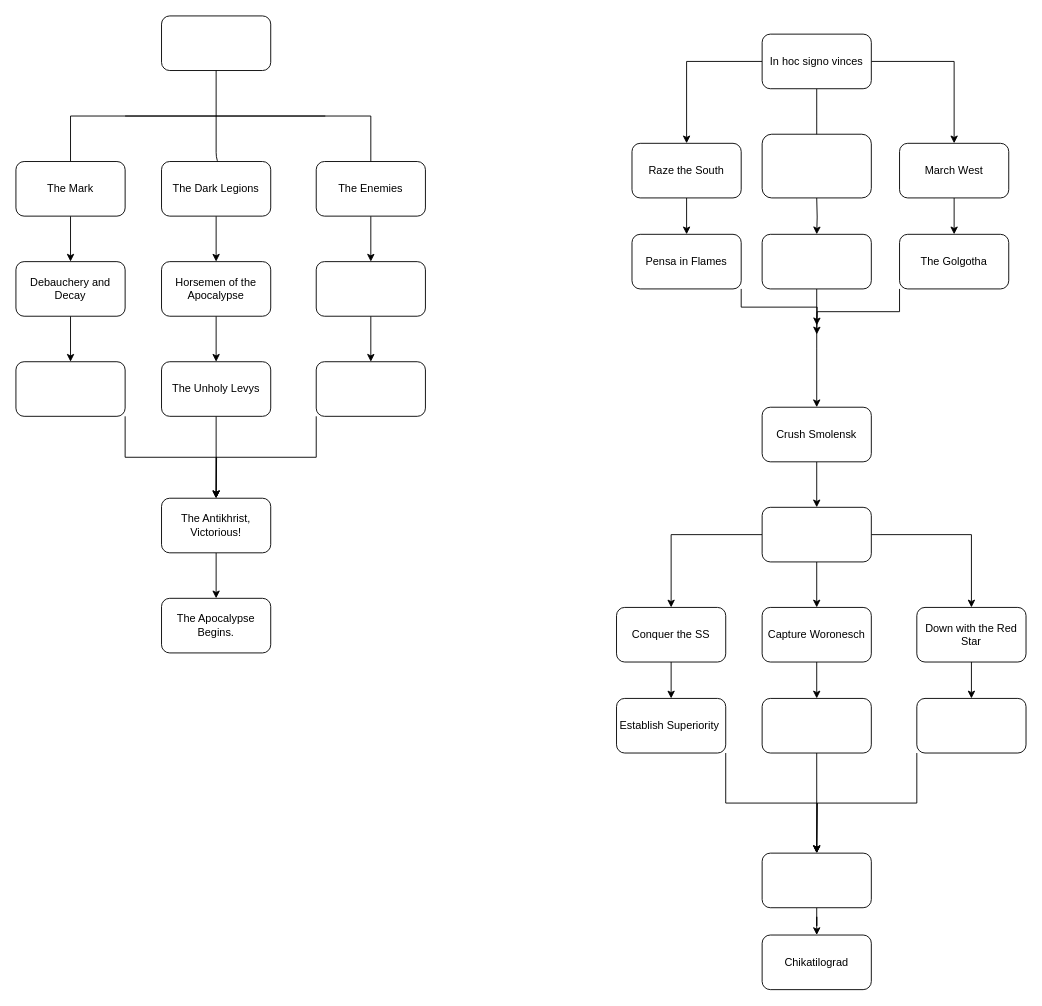
The diagram is 1042 pixels wide and 1006 high, and some of its shapes have lost their labels. Each missing label, with the box of its shape:
Cleanse the City: (761, 506, 871, 562)
Enact the War Plans: (315, 261, 425, 316)
Long Way to Wolgstaat: (761, 698, 871, 753)
Sack of Moscow: (761, 233, 871, 289)
The Antikhrist Commenth!: (161, 15, 271, 71)
The Conquests of Antikhrist: (315, 361, 425, 416)
The Great Persecutions: (15, 361, 125, 416)
The Main Target: (761, 133, 871, 198)
Their hopes destroyed: (916, 698, 1026, 753)
To the Promised Land: (761, 852, 871, 908)
